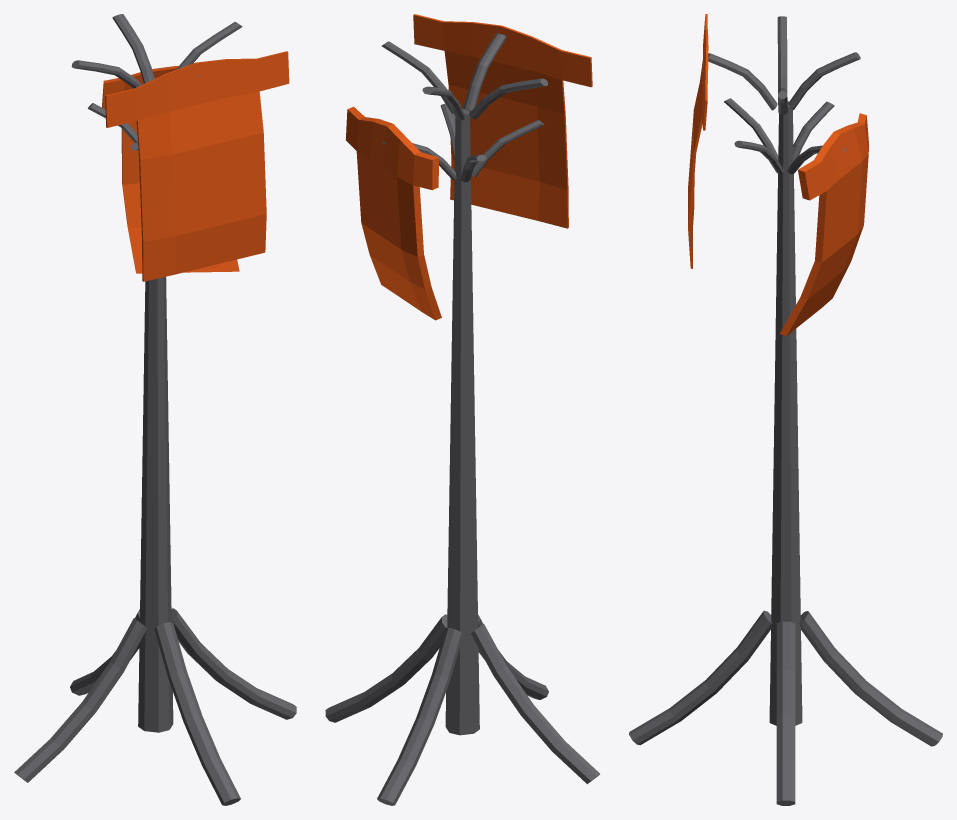
Rendered from Veshalka.fbx.
3 renders of one model, left to right at view 1: azimuth 30°, elevation 25°; view 2: azimuth 150°, elevation 25°; view 3: azimuth 270°, elevation 25°, orthographic. The views are drawn at different scales.
Parts seen in each view (by area): view 1: вешалка; view 2: вешалка; view 3: вешалка.
Boxes of the visible parts, left/top/right/bottom form: вешалка: left=14, top=14, right=296, bottom=805; вешалка: left=325, top=14, right=599, bottom=805; вешалка: left=629, top=14, right=942, bottom=805.
Size of the model in its own units: 98.39 by 241 by 98.41.
